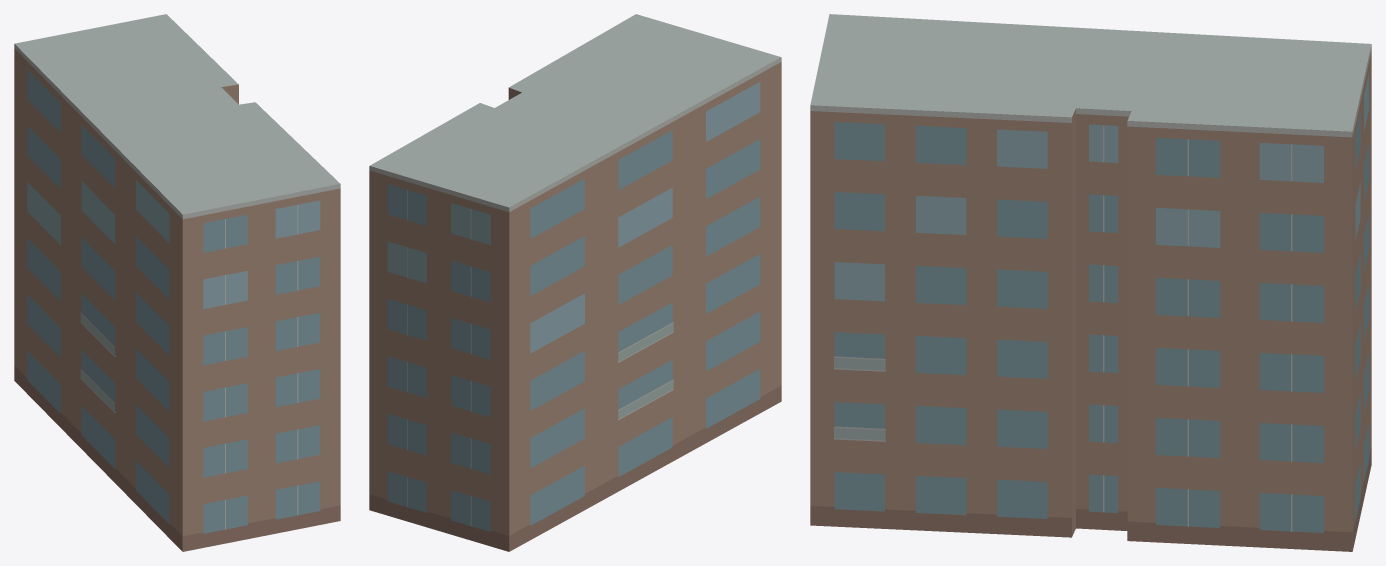
Rendered from survey-upis-32565982.glb.
3 views of the same model, side by side, from view 1: azimuth 30°, elevation 25°; view 2: azimuth 150°, elevation 25°; view 3: azimuth 270°, elevation 25° (orthographic). The views are drawn at different scales.
Visible parts, largest first — view 1: survey-upis-32565982.tmp; view 2: survey-upis-32565982.tmp; view 3: survey-upis-32565982.tmp.
Part boxes in pixels (x1,y1,x2,y2): survey-upis-32565982.tmp: (14, 14, 340, 551); survey-upis-32565982.tmp: (369, 14, 781, 551); survey-upis-32565982.tmp: (810, 14, 1371, 551).
Size of the model in its own units: 10.83 by 18 by 21.81.
